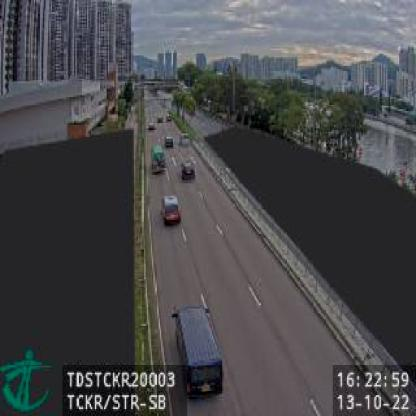Car: (170, 306, 226, 400), (162, 192, 181, 226), (181, 160, 196, 181), (180, 133, 192, 148), (165, 136, 175, 150)
Minibus: (150, 146, 166, 176)
